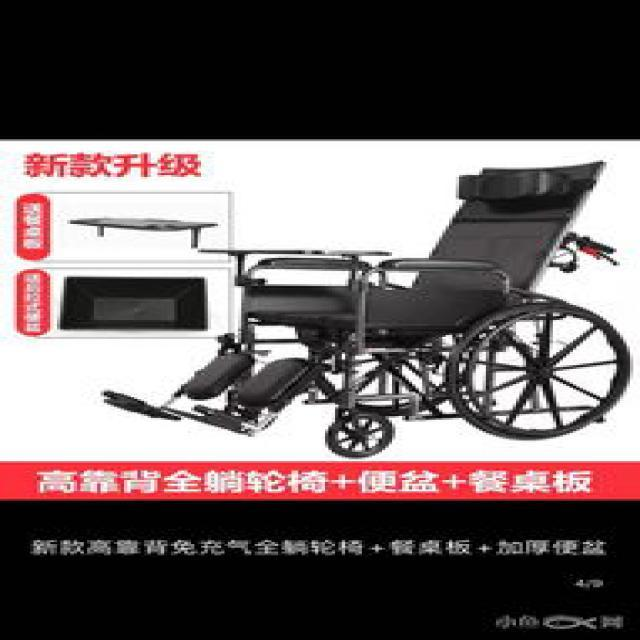wheelchair: (84, 156, 626, 448)
